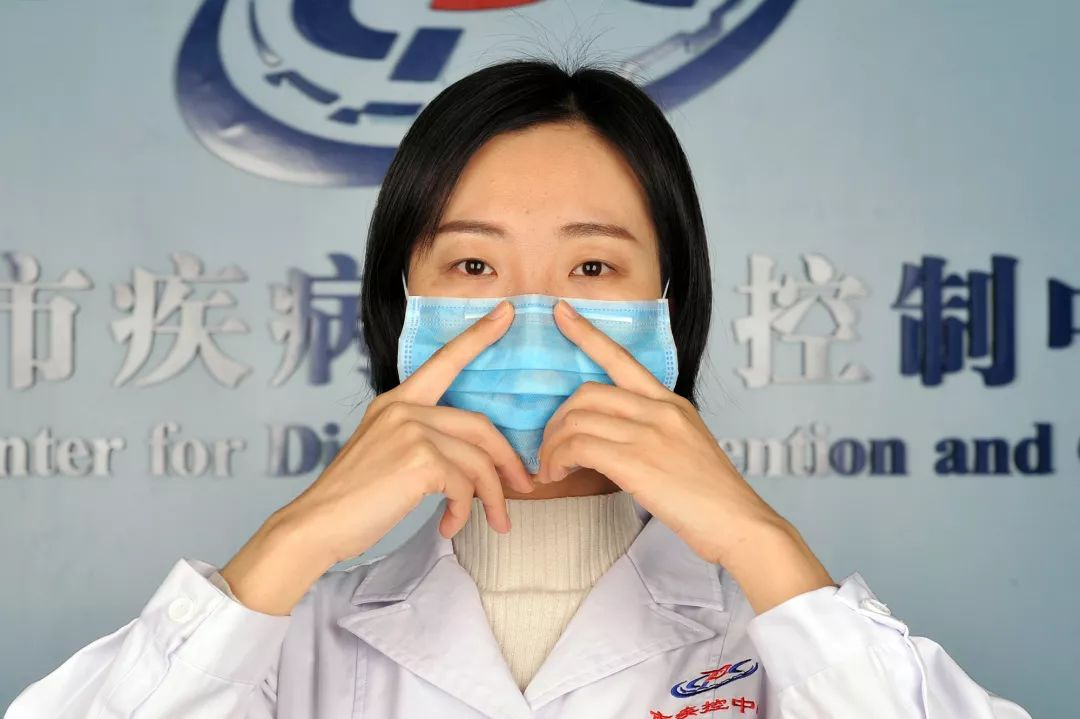with_mask: (361, 59, 713, 483)
